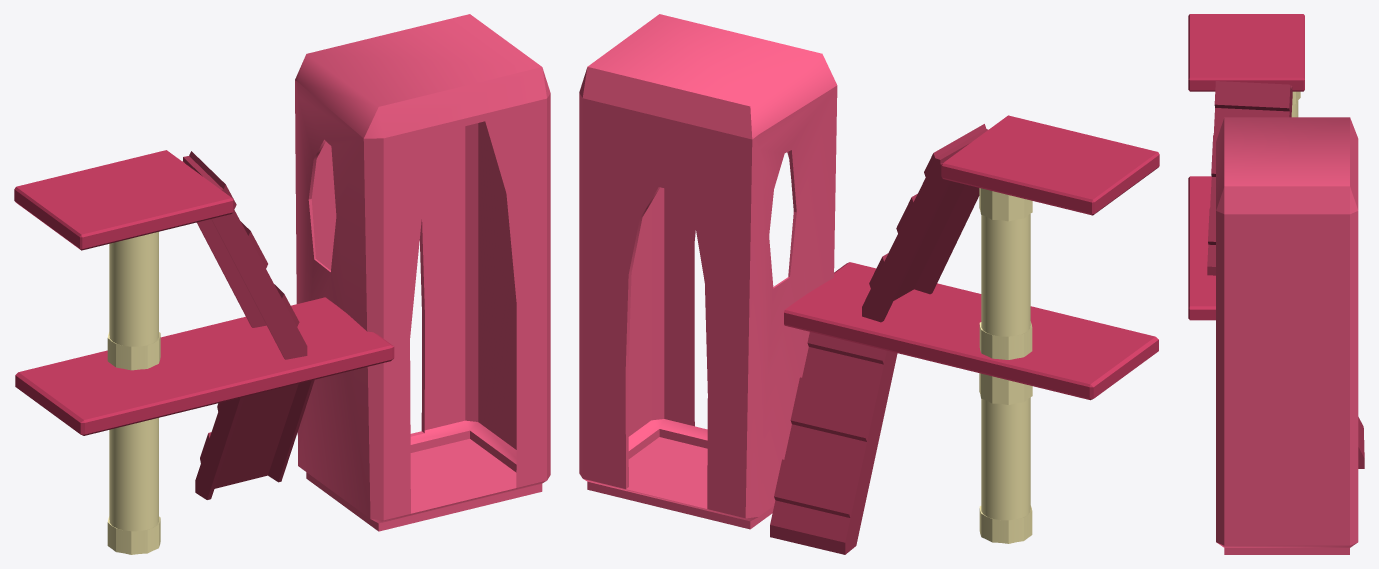
Rendered from SM_house_9.fbx.
3 views of the same model, side by side, from view 1: azimuth 30°, elevation 25°; view 2: azimuth 150°, elevation 25°; view 3: azimuth 270°, elevation 25° (orthographic). The views are drawn at different scales.
Visible parts, largest first — view 1: SM_house_7; view 2: SM_house_7; view 3: SM_house_7.
Part boxes in pixels (bbox=[...]): SM_house_7: bbox=[14, 14, 550, 554]; SM_house_7: bbox=[579, 14, 1159, 554]; SM_house_7: bbox=[1188, 14, 1364, 554].
Size of the model in its own units: 988 by 2755 by 2279.
